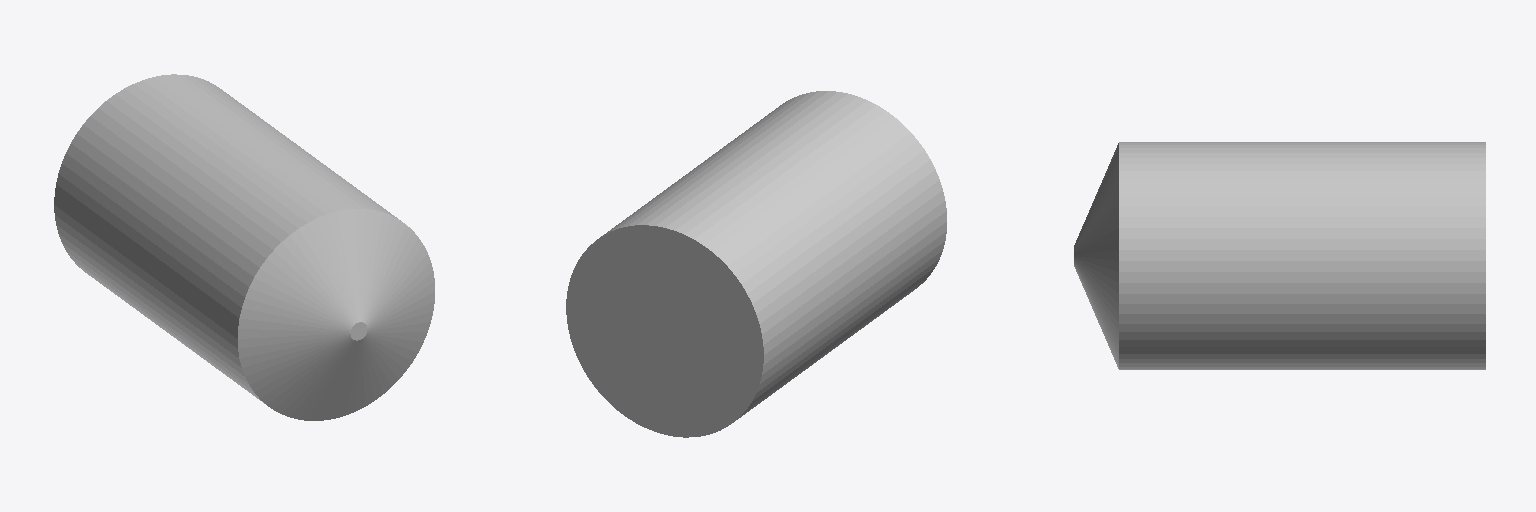
Rendered from Candle5.obj.
3 views of the same model, side by side, from view 1: azimuth 30°, elevation 25°; view 2: azimuth 150°, elevation 25°; view 3: azimuth 270°, elevation 25° (orthographic).
Visible parts, largest first — view 1: Candle5_Cylinder.003; view 2: Candle5_Cylinder.003; view 3: Candle5_Cylinder.003.
Part boxes in pixels (left/top/right/bottom): Candle5_Cylinder.003: left=54, top=74, right=434, bottom=420; Candle5_Cylinder.003: left=566, top=91, right=946, bottom=437; Candle5_Cylinder.003: left=1074, top=142, right=1485, bottom=369.
Size of the model in its own units: 0.1362 by 0.1362 by 0.2457.